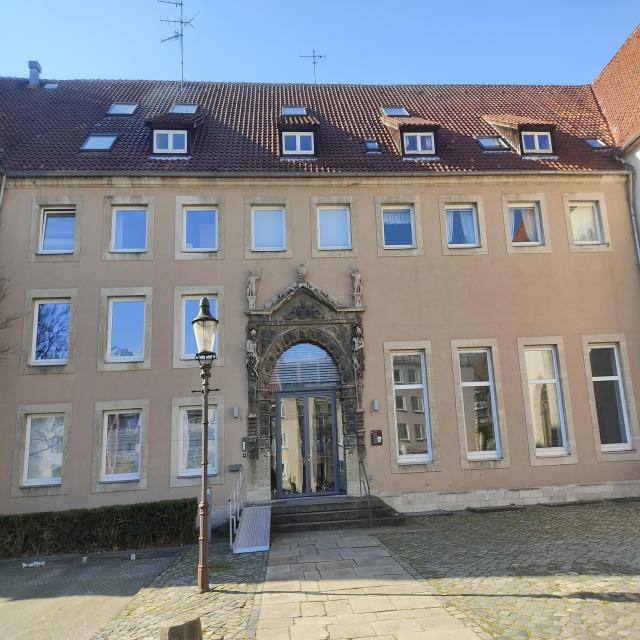glass panel: (270, 343, 339, 390), (308, 396, 335, 493), (279, 397, 305, 495), (25, 415, 63, 481), (104, 412, 140, 478), (462, 386, 496, 452), (529, 383, 564, 447), (108, 299, 144, 360), (395, 389, 427, 455), (34, 302, 69, 361), (181, 408, 202, 474), (41, 212, 75, 252), (113, 209, 146, 250), (253, 209, 285, 251), (184, 210, 216, 250), (318, 208, 350, 248), (446, 207, 478, 245), (569, 203, 600, 242), (383, 208, 414, 246), (509, 206, 540, 243), (589, 347, 619, 377), (525, 349, 554, 380), (459, 351, 488, 382), (393, 354, 421, 383), (82, 135, 116, 149), (172, 133, 186, 150), (299, 133, 312, 151), (283, 134, 296, 151), (155, 133, 168, 149), (420, 135, 433, 151), (405, 134, 417, 151), (537, 134, 550, 149), (523, 134, 535, 150), (207, 296, 216, 316), (592, 349, 599, 352)
